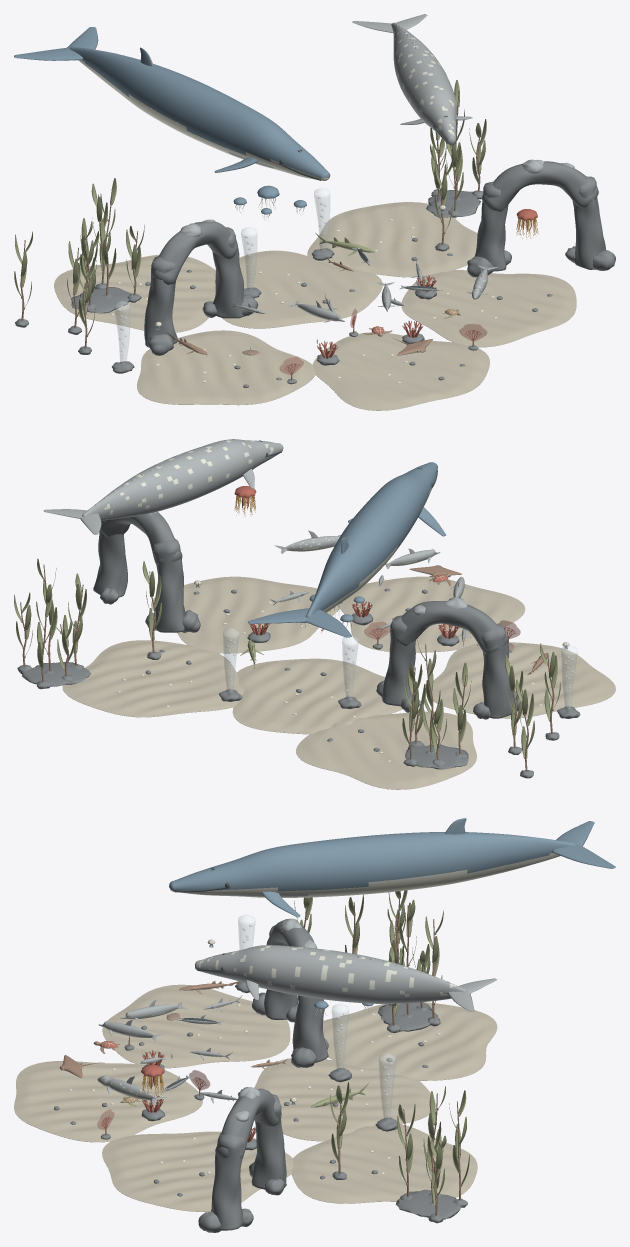
Rendered from seal_baby.glb.
3 renders of one model, top to bottom at view 1: azimuth 30°, elevation 25°; view 2: azimuth 150°, elevation 25°; view 3: azimuth 270°, elevation 25°, orthographic. The views are drawn at different scales.
Parts seen in each view (by area): view 1: 023-fin-whale/0, 004-sand-bed/0, 005-sand-bed/0, 003-sand-bed/0, 002-sand-bed/0, 000-sand-bed/0, 007-rock-arch/0, 006-rock-arch/0, 001-sand-bed/0, 024-grey-whale/0, 013-kelp-forest-cluster/1, 012-kelp-forest-cluster/1 (+8 smaller); view 2: 002-sand-bed/0, 000-sand-bed/0, 023-fin-whale/0, 001-sand-bed/0, 024-grey-whale/0, 003-sand-bed/0, 004-sand-bed/0, 006-rock-arch/0, 005-sand-bed/0, 007-rock-arch/0, 013-kelp-forest-cluster/1, 012-kelp-forest-cluster/1 (+13 smaller); view 3: 023-fin-whale/0, 024-grey-whale/0, 005-sand-bed/0, 004-sand-bed/0, 002-sand-bed/0, 001-sand-bed/0, 000-sand-bed/0, 003-sand-bed/0, 007-rock-arch/0, 006-rock-arch/0, 023-fin-whale/1, 012-kelp-forest-cluster/1 (+9 smaller).
Part boxes in pixels (bbox=[...]): 023-fin-whale/0: bbox=[14, 27, 330, 178]; 004-sand-bed/0: bbox=[137, 330, 315, 405]; 005-sand-bed/0: bbox=[312, 332, 489, 410]; 003-sand-bed/0: bbox=[401, 270, 576, 347]; 002-sand-bed/0: bbox=[307, 202, 477, 277]; 000-sand-bed/0: bbox=[213, 250, 382, 328]; 007-rock-arch/0: bbox=[467, 161, 615, 277]; 006-rock-arch/0: bbox=[144, 221, 258, 355]; 001-sand-bed/0: bbox=[54, 254, 215, 332]; 024-grey-whale/0: bbox=[352, 14, 472, 145]; 013-kelp-forest-cluster/1: bbox=[79, 178, 144, 293]; 012-kelp-forest-cluster/1: bbox=[430, 80, 486, 199]; 002-sand-bed/0: bbox=[62, 640, 243, 717]; 000-sand-bed/0: bbox=[232, 658, 402, 734]; 023-fin-whale/0: bbox=[248, 462, 445, 637]; 001-sand-bed/0: bbox=[296, 711, 476, 789]; 024-grey-whale/0: bbox=[43, 439, 283, 534]; 003-sand-bed/0: bbox=[151, 576, 339, 653]; 004-sand-bed/0: bbox=[430, 642, 615, 718]; 006-rock-arch/0: bbox=[376, 601, 522, 719]; 005-sand-bed/0: bbox=[339, 576, 525, 652]; 007-rock-arch/0: bbox=[93, 512, 200, 632]; 013-kelp-forest-cluster/1: bbox=[402, 636, 471, 753]; 012-kelp-forest-cluster/1: bbox=[14, 558, 86, 670]; 023-fin-whale/0: bbox=[169, 818, 615, 917]; 024-grey-whale/0: bbox=[195, 945, 496, 1011]; 005-sand-bed/0: bbox=[14, 1061, 202, 1142]; 004-sand-bed/0: bbox=[102, 984, 290, 1068]; 002-sand-bed/0: bbox=[291, 1124, 477, 1203]; 001-sand-bed/0: bbox=[323, 1002, 497, 1080]; 000-sand-bed/0: bbox=[254, 1058, 435, 1141]; 003-sand-bed/0: bbox=[102, 1131, 293, 1211]; 007-rock-arch/0: bbox=[198, 1088, 286, 1232]; 006-rock-arch/0: bbox=[252, 919, 328, 1067]; 023-fin-whale/1: bbox=[169, 853, 560, 897]; 012-kelp-forest-cluster/1: bbox=[397, 1086, 469, 1206].
Size of the model in its own units: 27.02 by 11.07 by 25.69.
